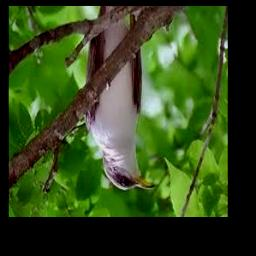Cuckoo: (84, 6, 154, 192)
